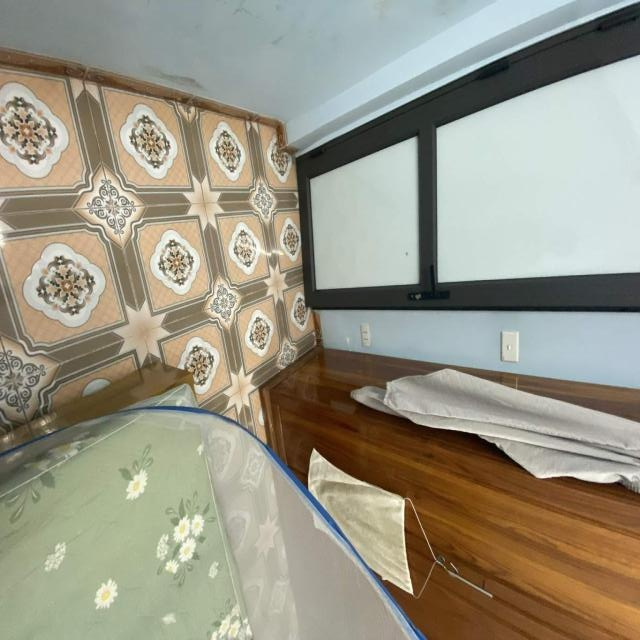outlet: (360, 323, 372, 347)
